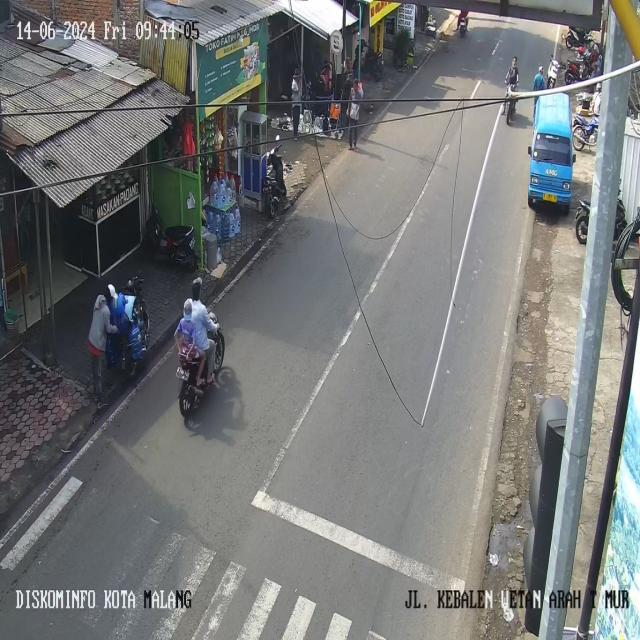Number Plate: (176, 367, 188, 380), (543, 193, 557, 202)
Rearview Mirror: (572, 153, 576, 162), (275, 134, 279, 141), (528, 146, 531, 155)
